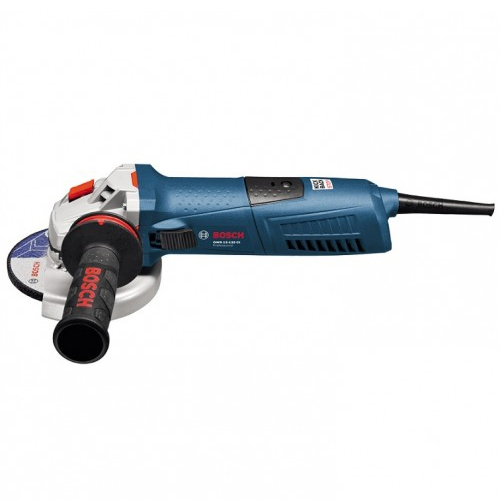Bosch: (74, 263, 105, 319), (208, 227, 247, 243), (28, 256, 42, 281)
